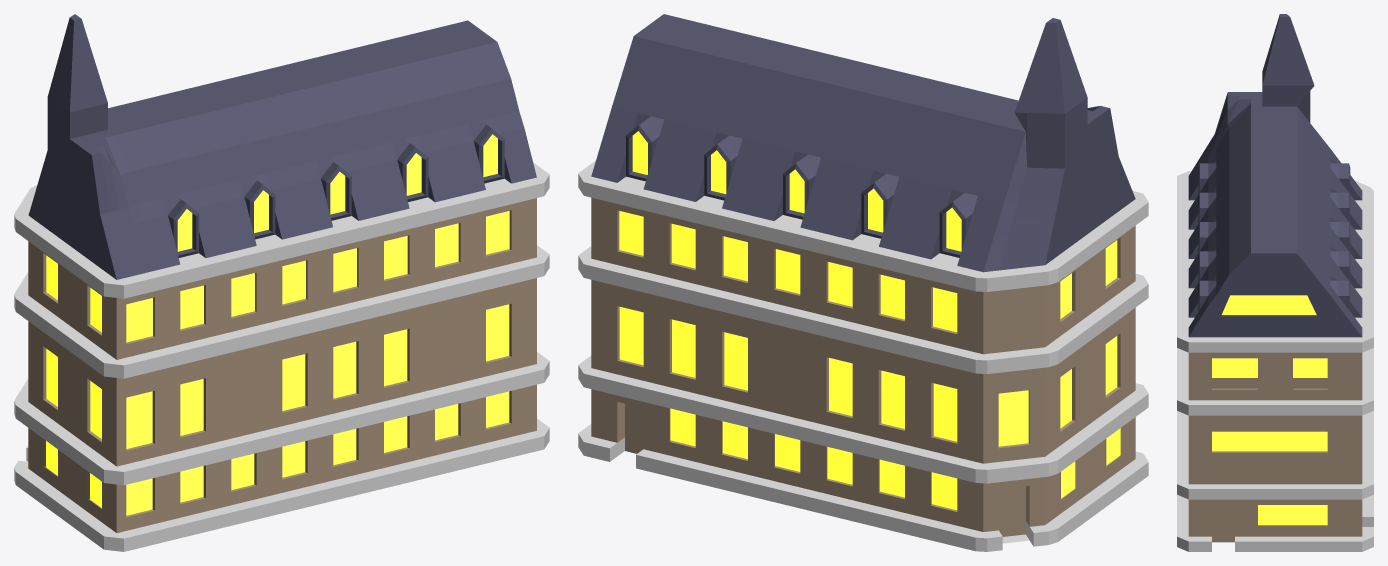
Rendered from HouseBlue1.fbx.
The picture shows the model from 3 angles, left to right: view 1: azimuth 30°, elevation 25°; view 2: azimuth 150°, elevation 25°; view 3: azimuth 270°, elevation 25°; orthographic projection. The views are drawn at different scales.
Parts seen in each view (by area): view 1: Cube; view 2: Cube; view 3: Cube.
Part boxes in pixels (bbox=[...]): Cube: bbox=[14, 14, 549, 551]; Cube: bbox=[578, 14, 1148, 551]; Cube: bbox=[1177, 14, 1373, 551].
Size of the model in its own units: 3500 by 3600 by 1700.
